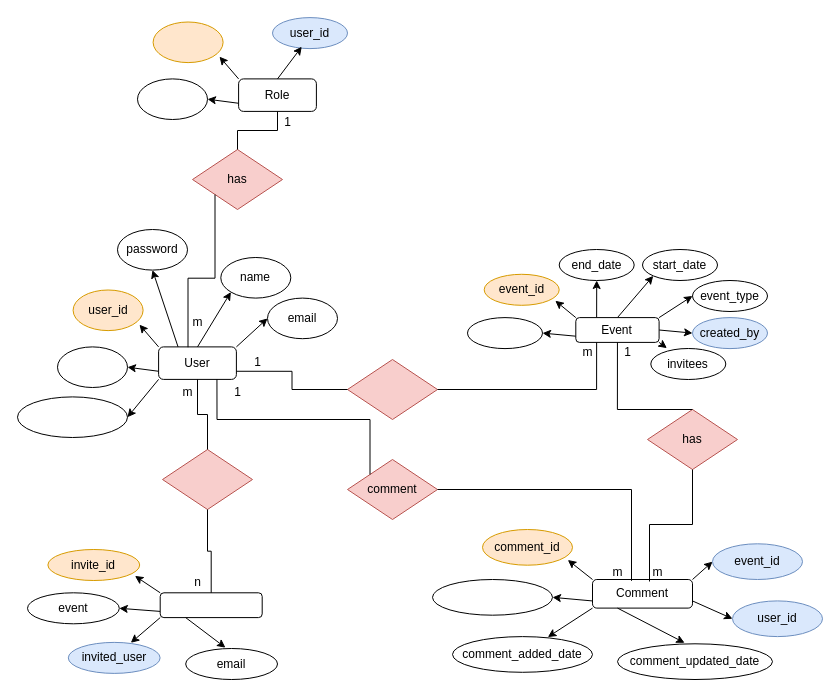
Image size: 840x697. Some labels were removed from this diagram. Here are the shapes that lost their labels. From the top down, the centre of each, then its label:
At point (187, 42): "role_id".
At point (172, 99): "role_name".
At point (504, 333): "start_time".
At point (92, 367): "username".
At point (392, 389): "create".
At point (72, 417): "account_created".
At point (207, 479): "invite".
At point (210, 605): "Invitation".
At point (492, 596): "comment_content".
